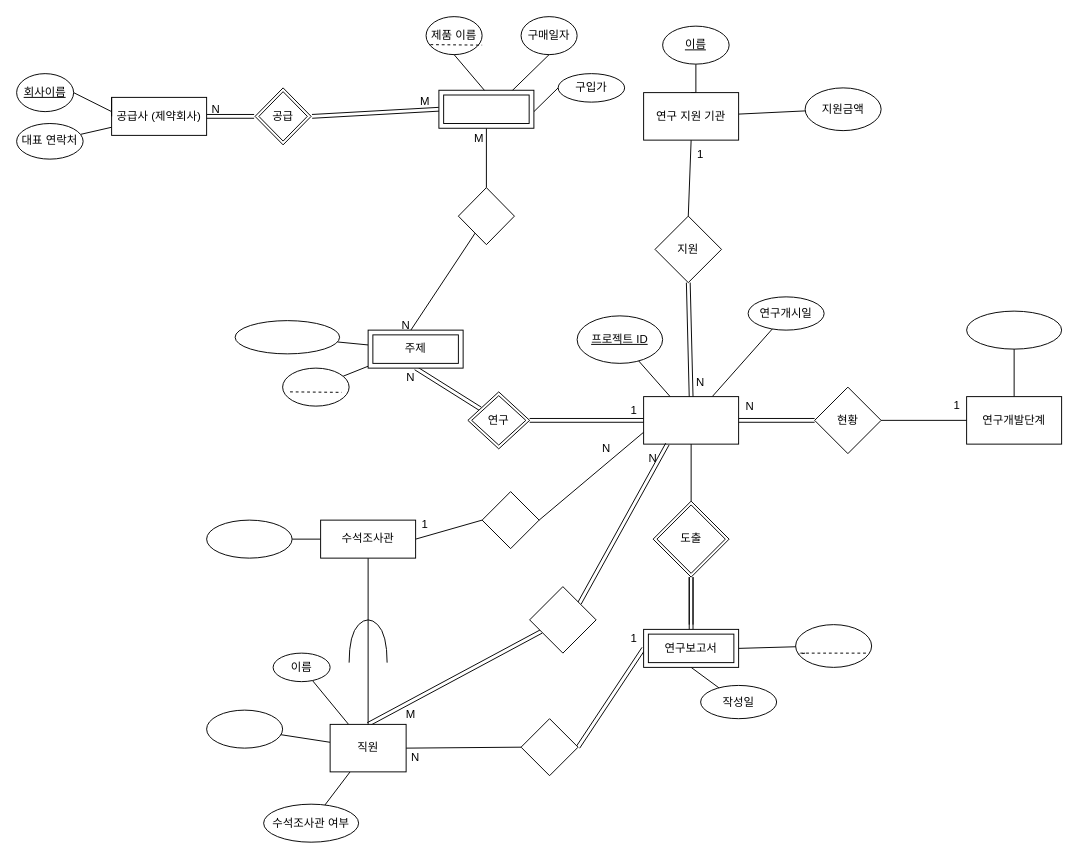
The diagram is 1078 pixels wide and 859 high, and some of its shapes have lost their labels. Each missing label, with the centre of its shape:
"관리" belongs at pixel 510 520.
"관리시작일자" belongs at pixel 249 538.
"구매품 (약품/실험기계)" belongs at pixel 486 108.
"구입" belongs at pixel 485 216.
"보고서 이름" belongs at pixel 833 645.
"약물최적투약 방식" belongs at pixel 287 337.
"연구 프로젝트" belongs at pixel 691 420.
"작성" belongs at pixel 549 747.
"주제 ID" belongs at pixel 315 386.
"직원 ID" belongs at pixel 244 728.
"진척율" belongs at pixel 1014 329.
"참여" belongs at pixel 562 619.
